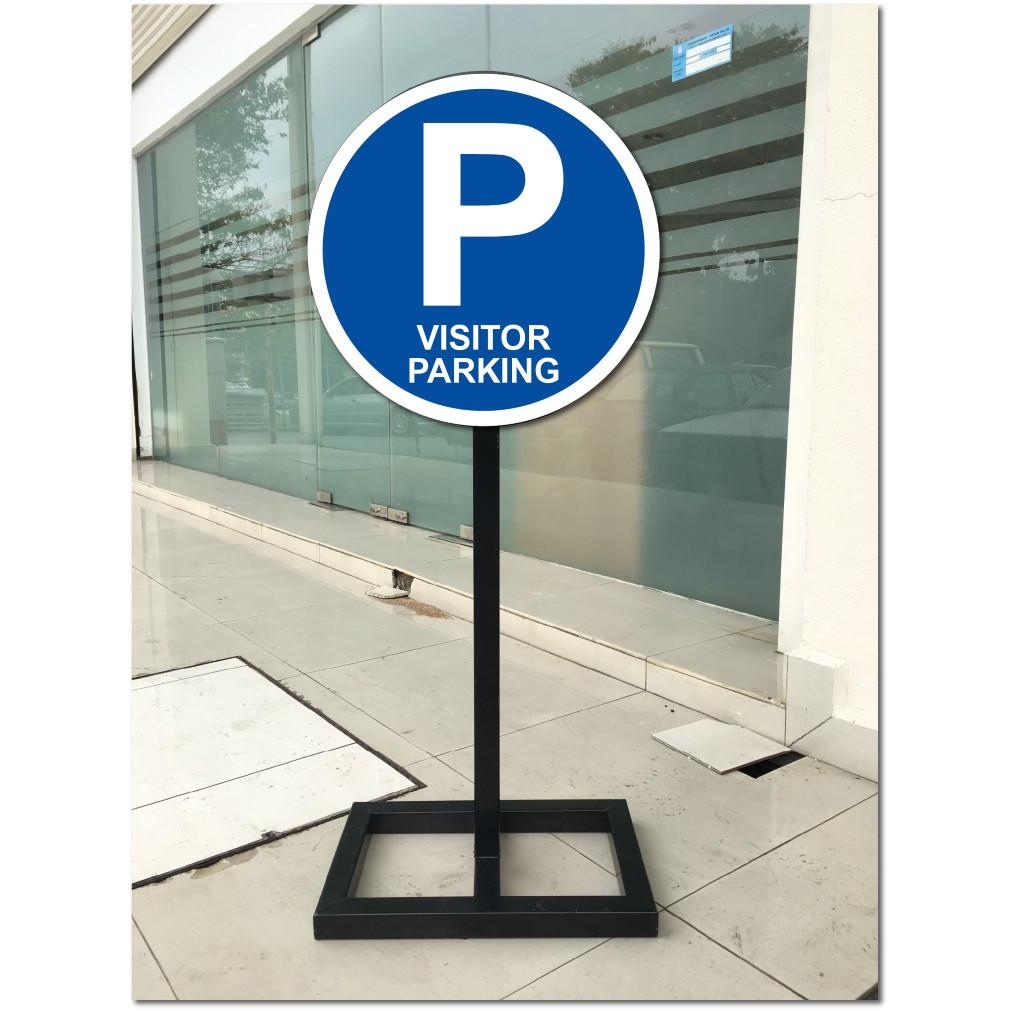parking: (318, 78, 654, 424)
